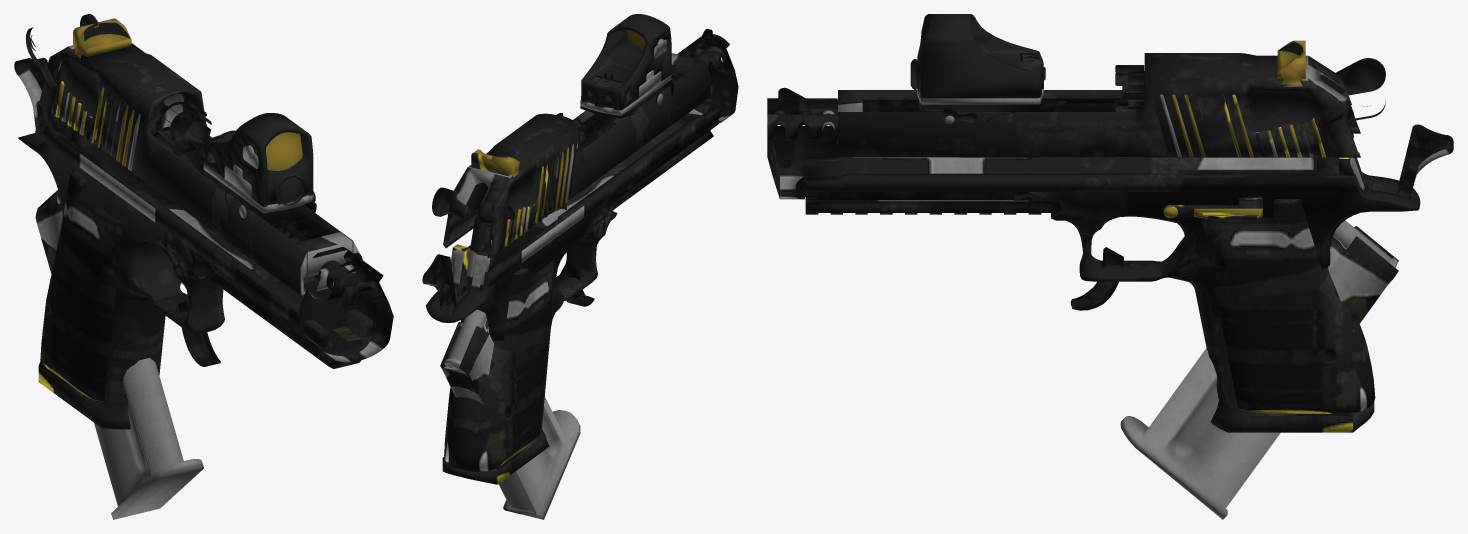
File: Weapons_DesertEagle_RedDot_LOD0.glb
The picture shows the model from 3 angles, left to right: view 1: azimuth 30°, elevation 25°; view 2: azimuth 150°, elevation 25°; view 3: azimuth 270°, elevation 25°; orthographic projection. The views are drawn at different scales.
Parts seen in each view (by area): view 1: Hoodie; view 2: Hoodie; view 3: Hoodie.
Part boxes in pixels (bbox=[...]): Hoodie: bbox=[14, 14, 393, 519]; Hoodie: bbox=[422, 14, 738, 519]; Hoodie: bbox=[767, 14, 1453, 519].
Size of the model in its own units: 0.0379 by 0.2365 by 0.2994.
Materials: 1 (1 with a texture image).
